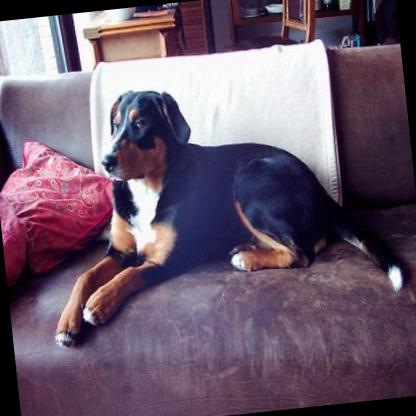Appenzeller: (28, 62, 406, 351)
